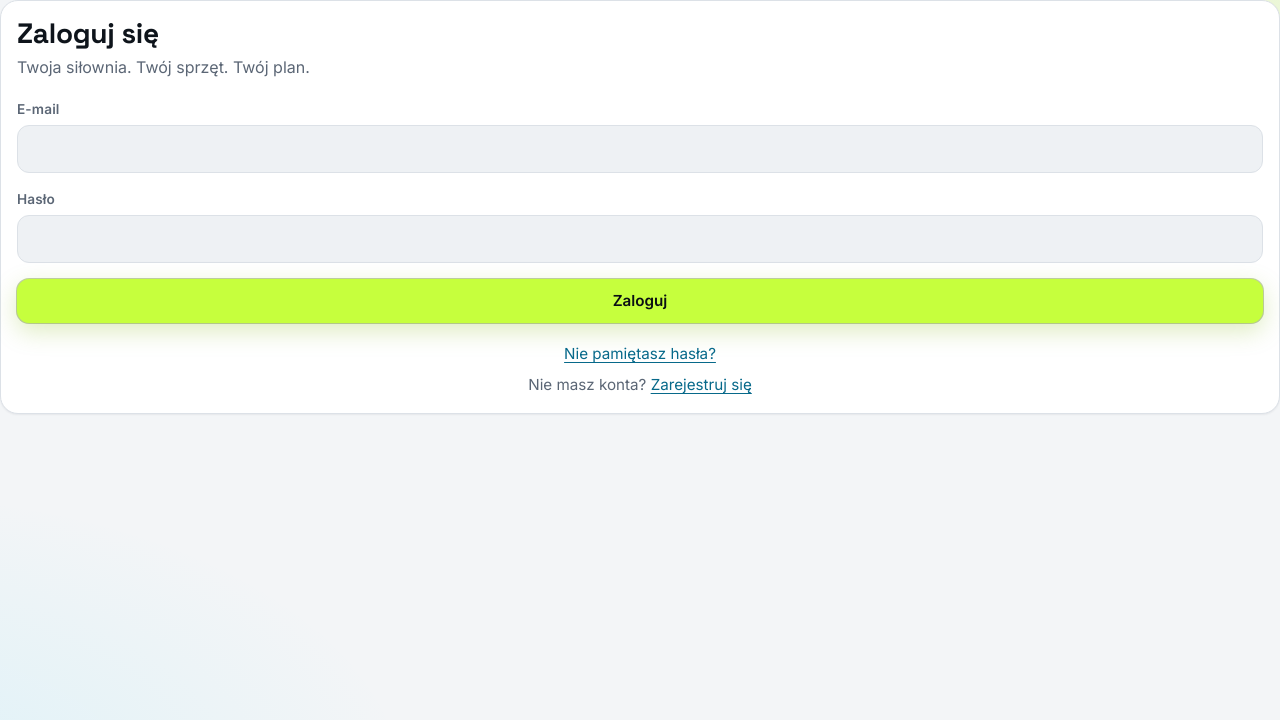
Test: LoginPage › shows validation errors without calling the API
Click the button "Zaloguj" at (640, 301), box [17, 279, 1263, 323]
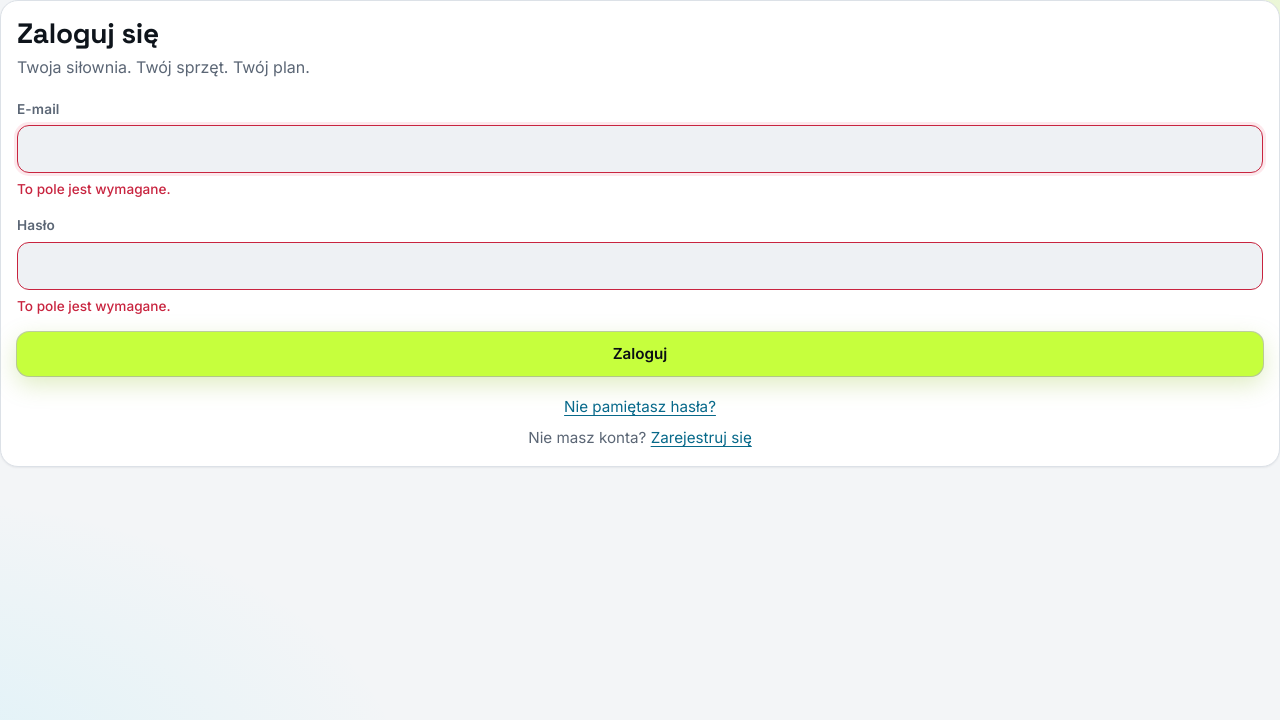
expect the text "To pole jest wymagane." is shown 2 times: met, box [17, 181, 171, 197]; [17, 298, 171, 314]
